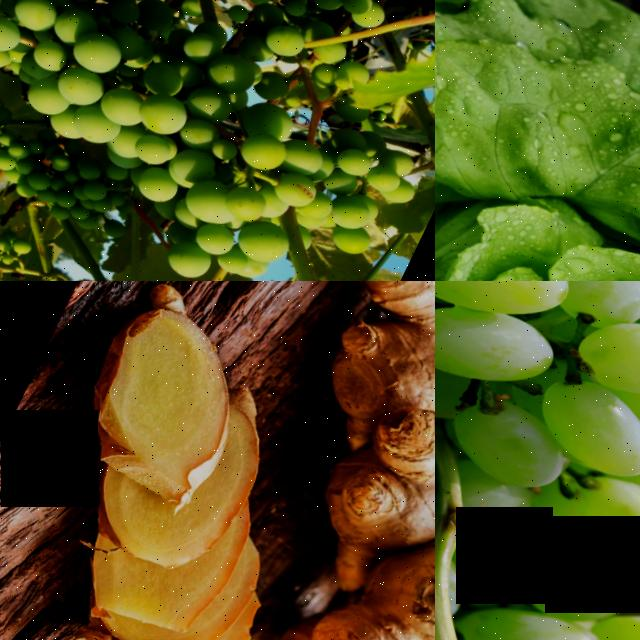ginger: (290, 281, 435, 471), (308, 388, 435, 586), (275, 507, 435, 640)
grapes: (0, 0, 374, 269), (435, 281, 640, 580), (0, 90, 152, 262), (0, 195, 46, 281)
lettuce: (435, 0, 640, 281)
